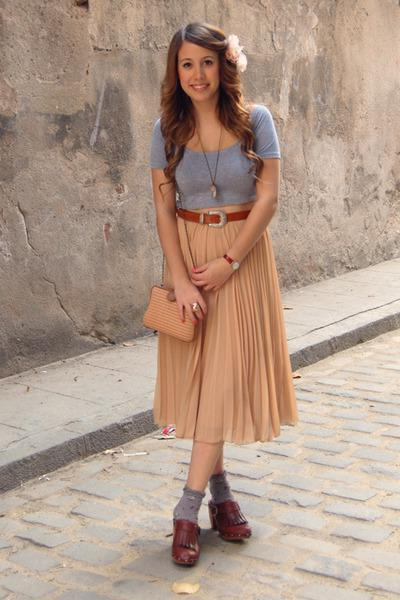short sleeve shirt: (145, 102, 286, 206)
skirt: (149, 203, 294, 437)
